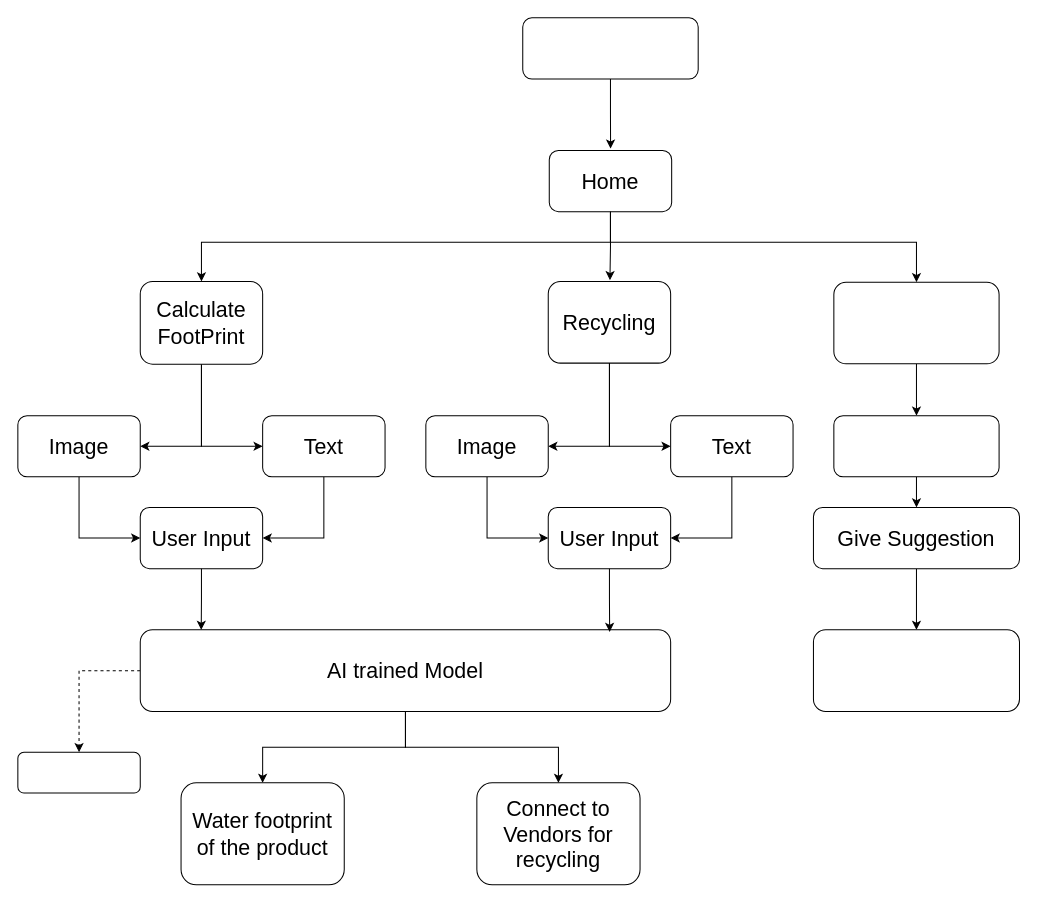
This 1037x903 diagram has some shape labels left out. The shapes that lost their labels are listed below. From the top down, each one's centre as x and y in pixels, then its label:
At point 610,48: "Login/SignUp".
At point 916,322: "Water Usage".
At point 916,446: "Tracking".
At point 915,670: "Give rewards for Imporvment".
At point 78,772: "DataBase".
